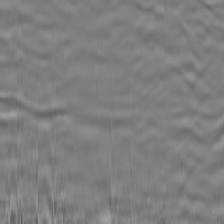cavities: (45, 123, 224, 223)
